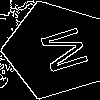M: (30, 25, 89, 78)
